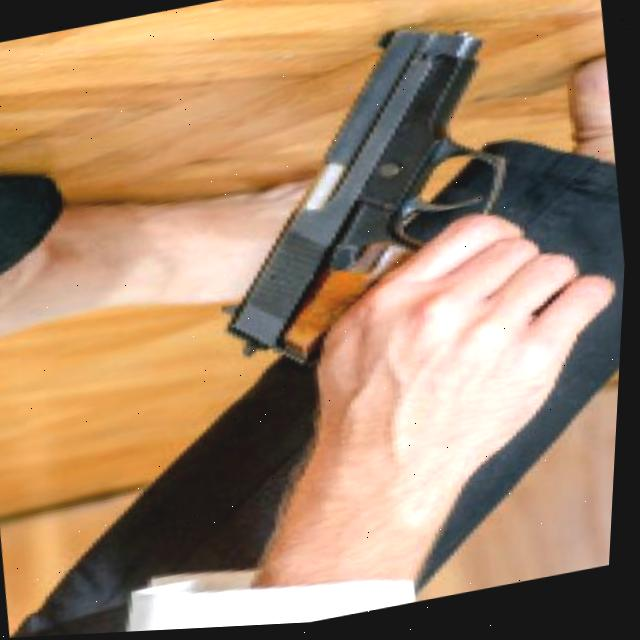pistol: (200, 5, 600, 469)
